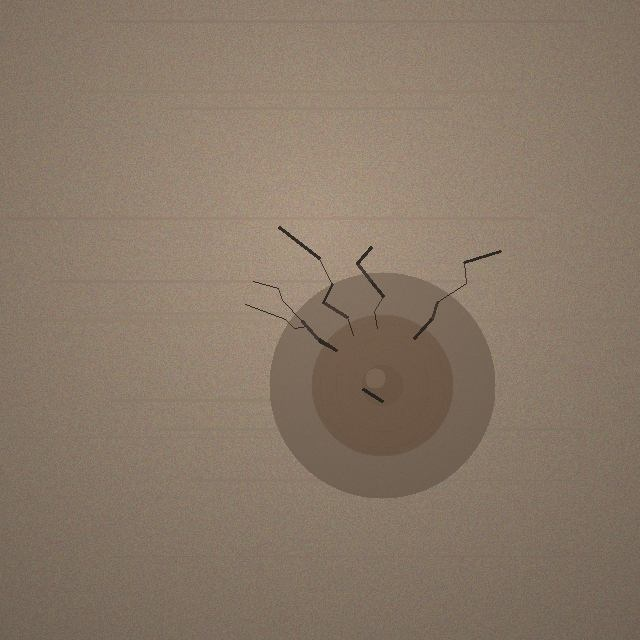crack: (269, 272, 495, 498)
